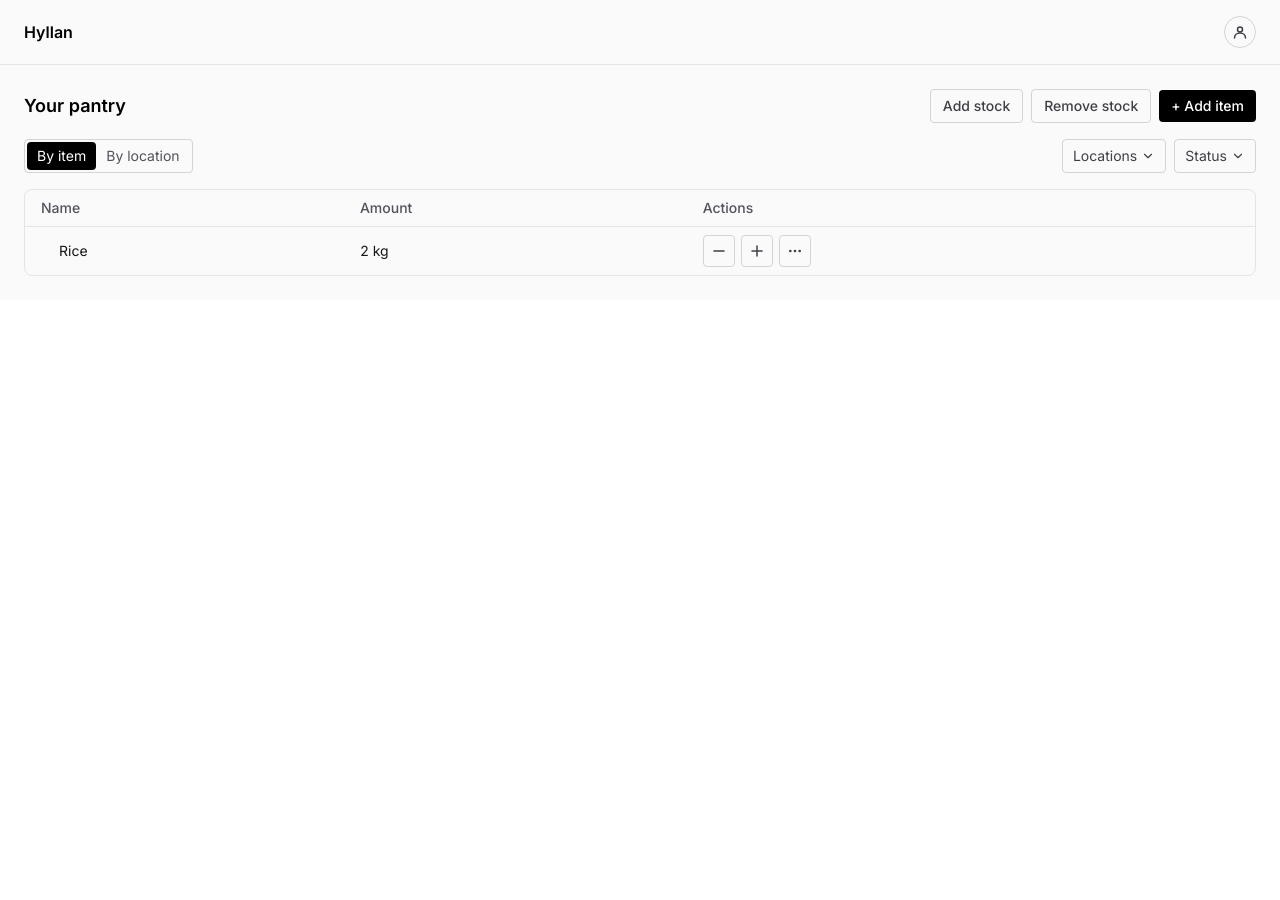
Test: SignedInHome › closes the overflow menu on outside click
Click the button named "Actions for Rice": (795, 251) left=779, top=235, right=811, bottom=267
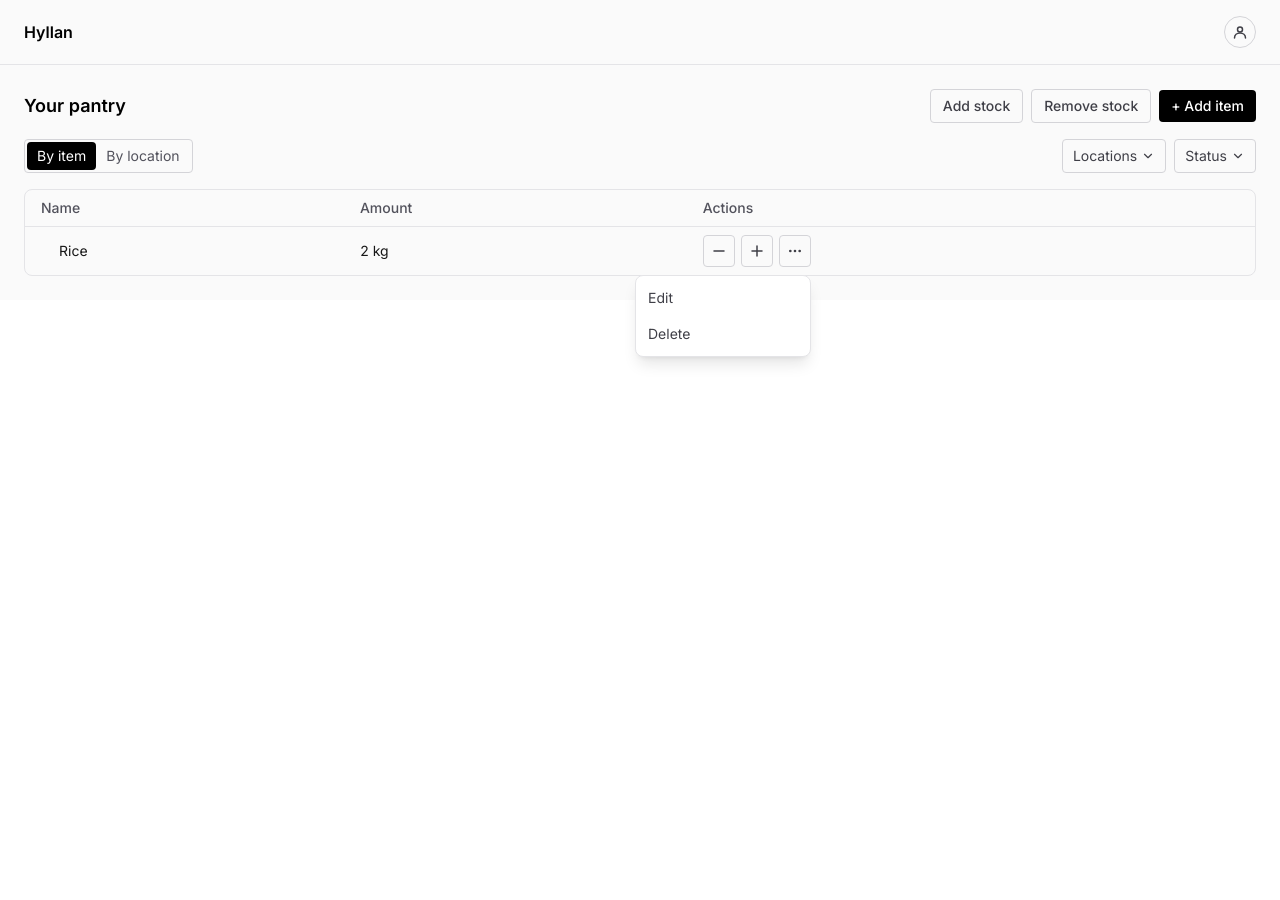
Now the menu item "Edit" is shown, box left=648, top=289, right=673, bottom=306
Press the mouse on the element that starts with "Hyllan": (640, 450) left=0, top=0, right=1279, bottom=899
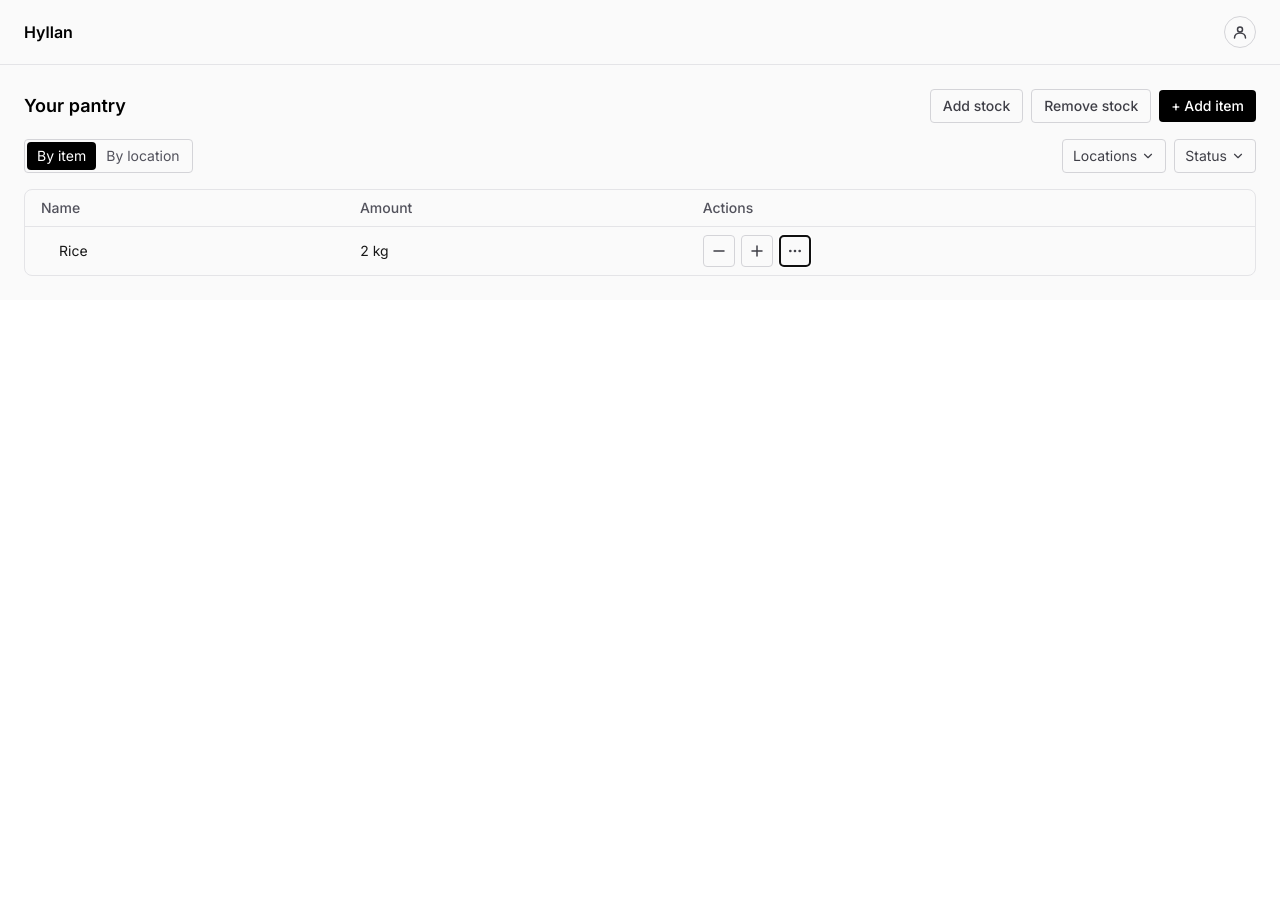
Now the menu item "Edit" is gone
